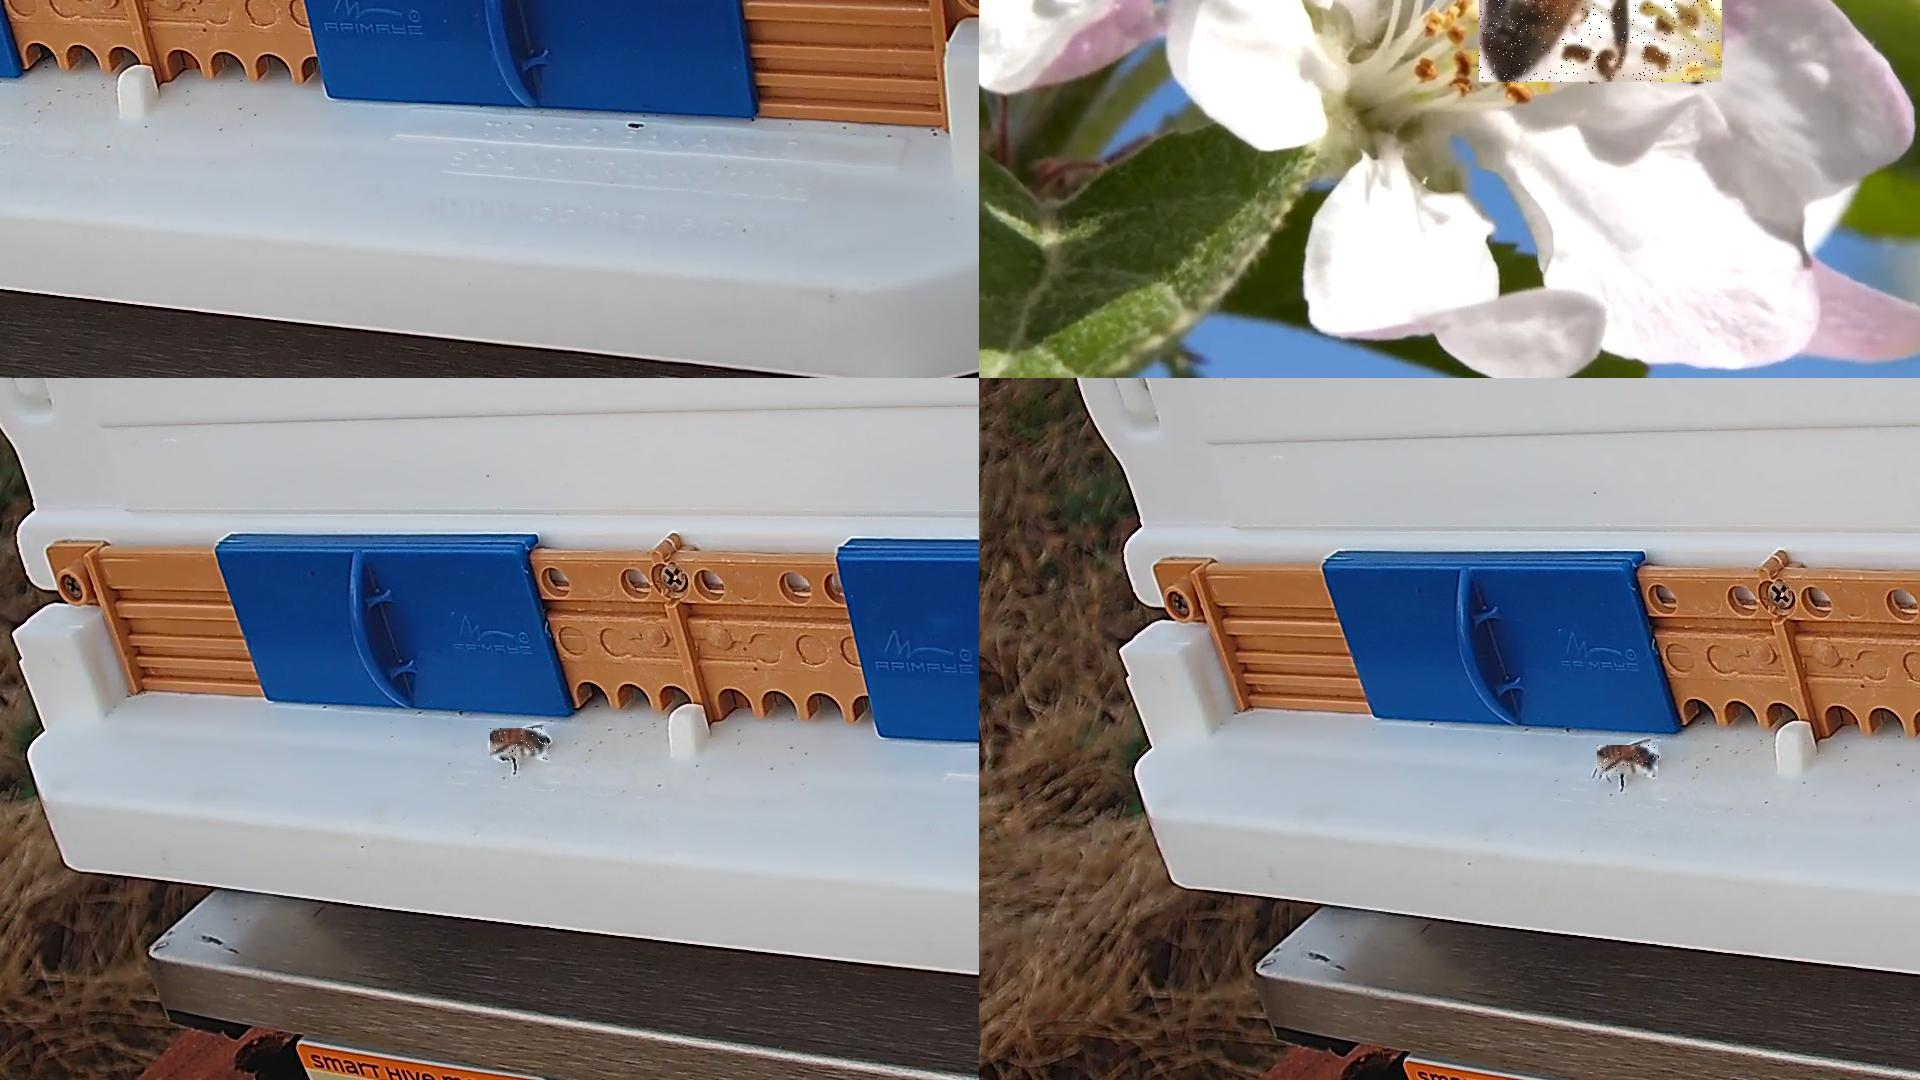bee: (1480, 0, 1724, 84), (1597, 746, 1659, 778), (491, 729, 550, 761)
